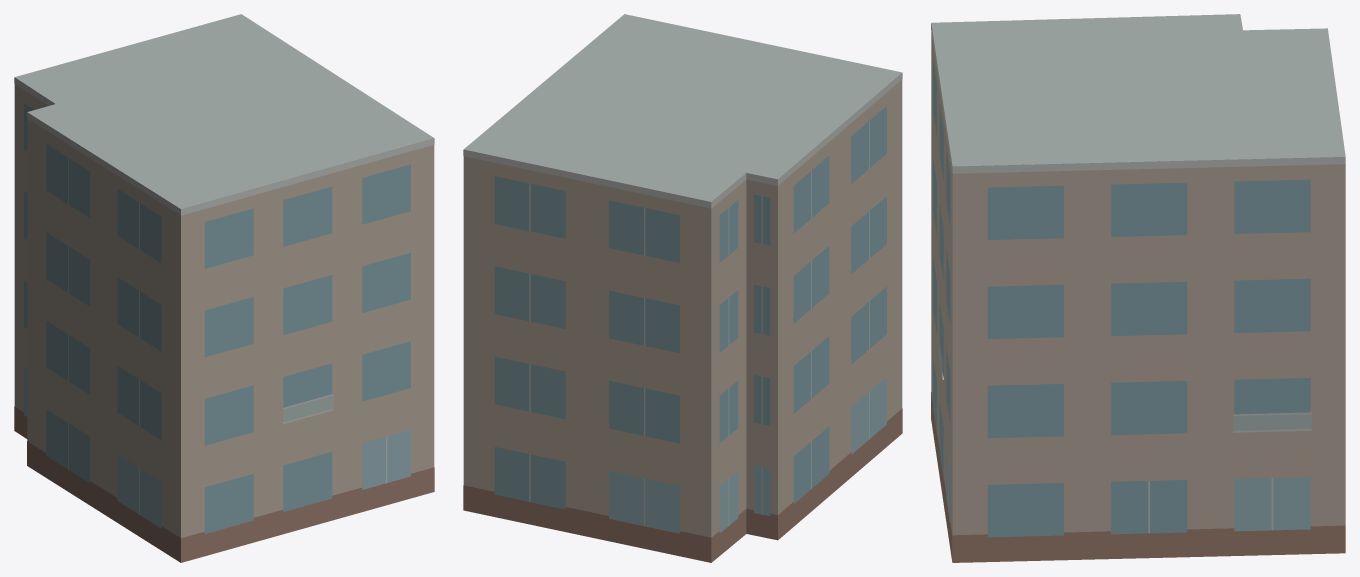
File: survey-upis-33031481.glb
3 views of the same model, side by side, from view 1: azimuth 30°, elevation 25°; view 2: azimuth 150°, elevation 25°; view 3: azimuth 270°, elevation 25° (orthographic). The views are drawn at different scales.
Parts seen in each view (by area): view 1: survey-upis-33031481.tmp; view 2: survey-upis-33031481.tmp; view 3: survey-upis-33031481.tmp.
Boxes of the visible parts, x1,y1,x2,y2 form: survey-upis-33031481.tmp: (14,14,434,562); survey-upis-33031481.tmp: (463,14,902,562); survey-upis-33031481.tmp: (931,14,1345,562).
Size of the model in its own units: 10.94 by 13.25 by 12.57.
